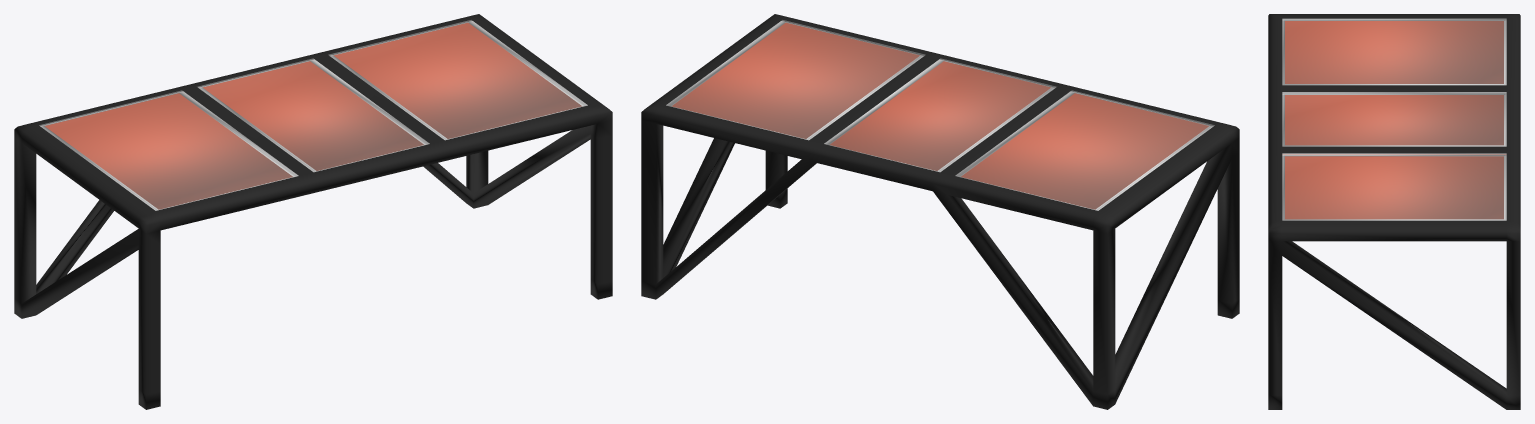
File: ComputerDesk.fbx
The picture shows the model from 3 angles, left to right: view 1: azimuth 30°, elevation 25°; view 2: azimuth 150°, elevation 25°; view 3: azimuth 270°, elevation 25°; orthographic projection. The views are drawn at different scales.
Parts seen in each view (by area): view 1: Plane; view 2: Plane; view 3: Plane.
Part boxes in pixels (x1,y1,x2,y2): Plane: [14, 14, 612, 409]; Plane: [641, 14, 1239, 409]; Plane: [1268, 14, 1520, 409].
Size of the model in its own units: 696 by 270 by 341.
